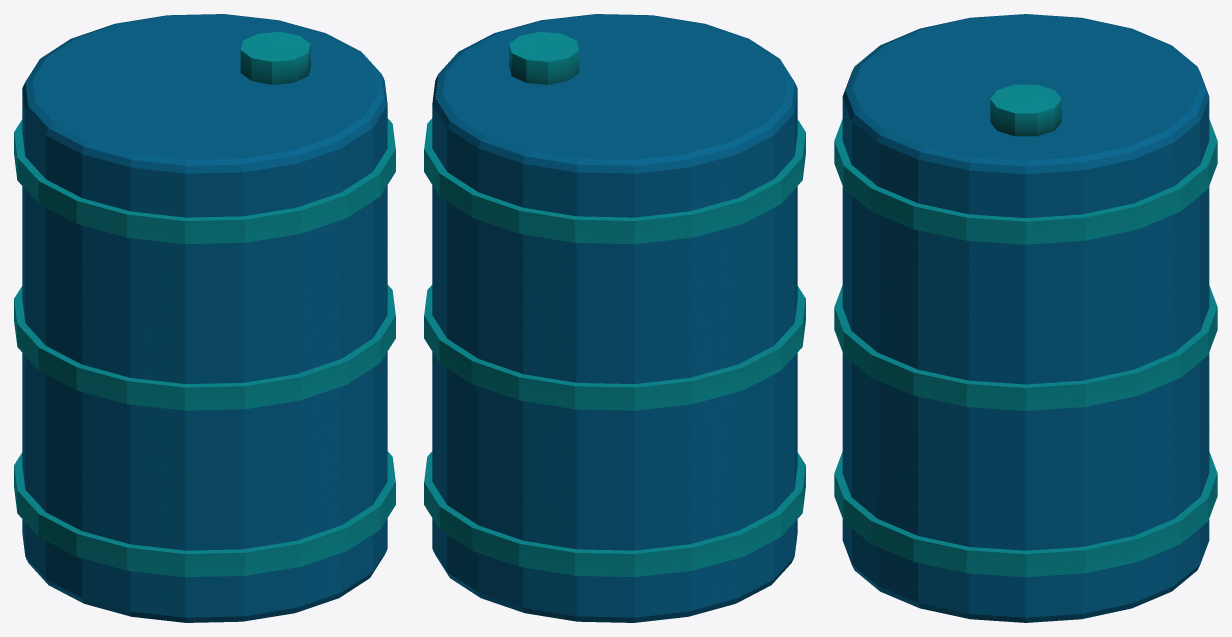
Rendered from barrel.glb.
3 views of the same model, side by side, from view 1: azimuth 30°, elevation 25°; view 2: azimuth 150°, elevation 25°; view 3: azimuth 270°, elevation 25° (orthographic).
Parts seen in each view (by area): view 1: barrel; view 2: barrel; view 3: barrel.
Part boxes in pixels (x1=…): barrel: x1=14, y1=14, x2=395, y2=622; barrel: x1=424, y1=14, x2=805, y2=622; barrel: x1=834, y1=14, x2=1217, y2=622.
Bounding box in the file's own units: 0.376 × 0.525 × 0.376.
Materials: 1 (1 with a texture image).
